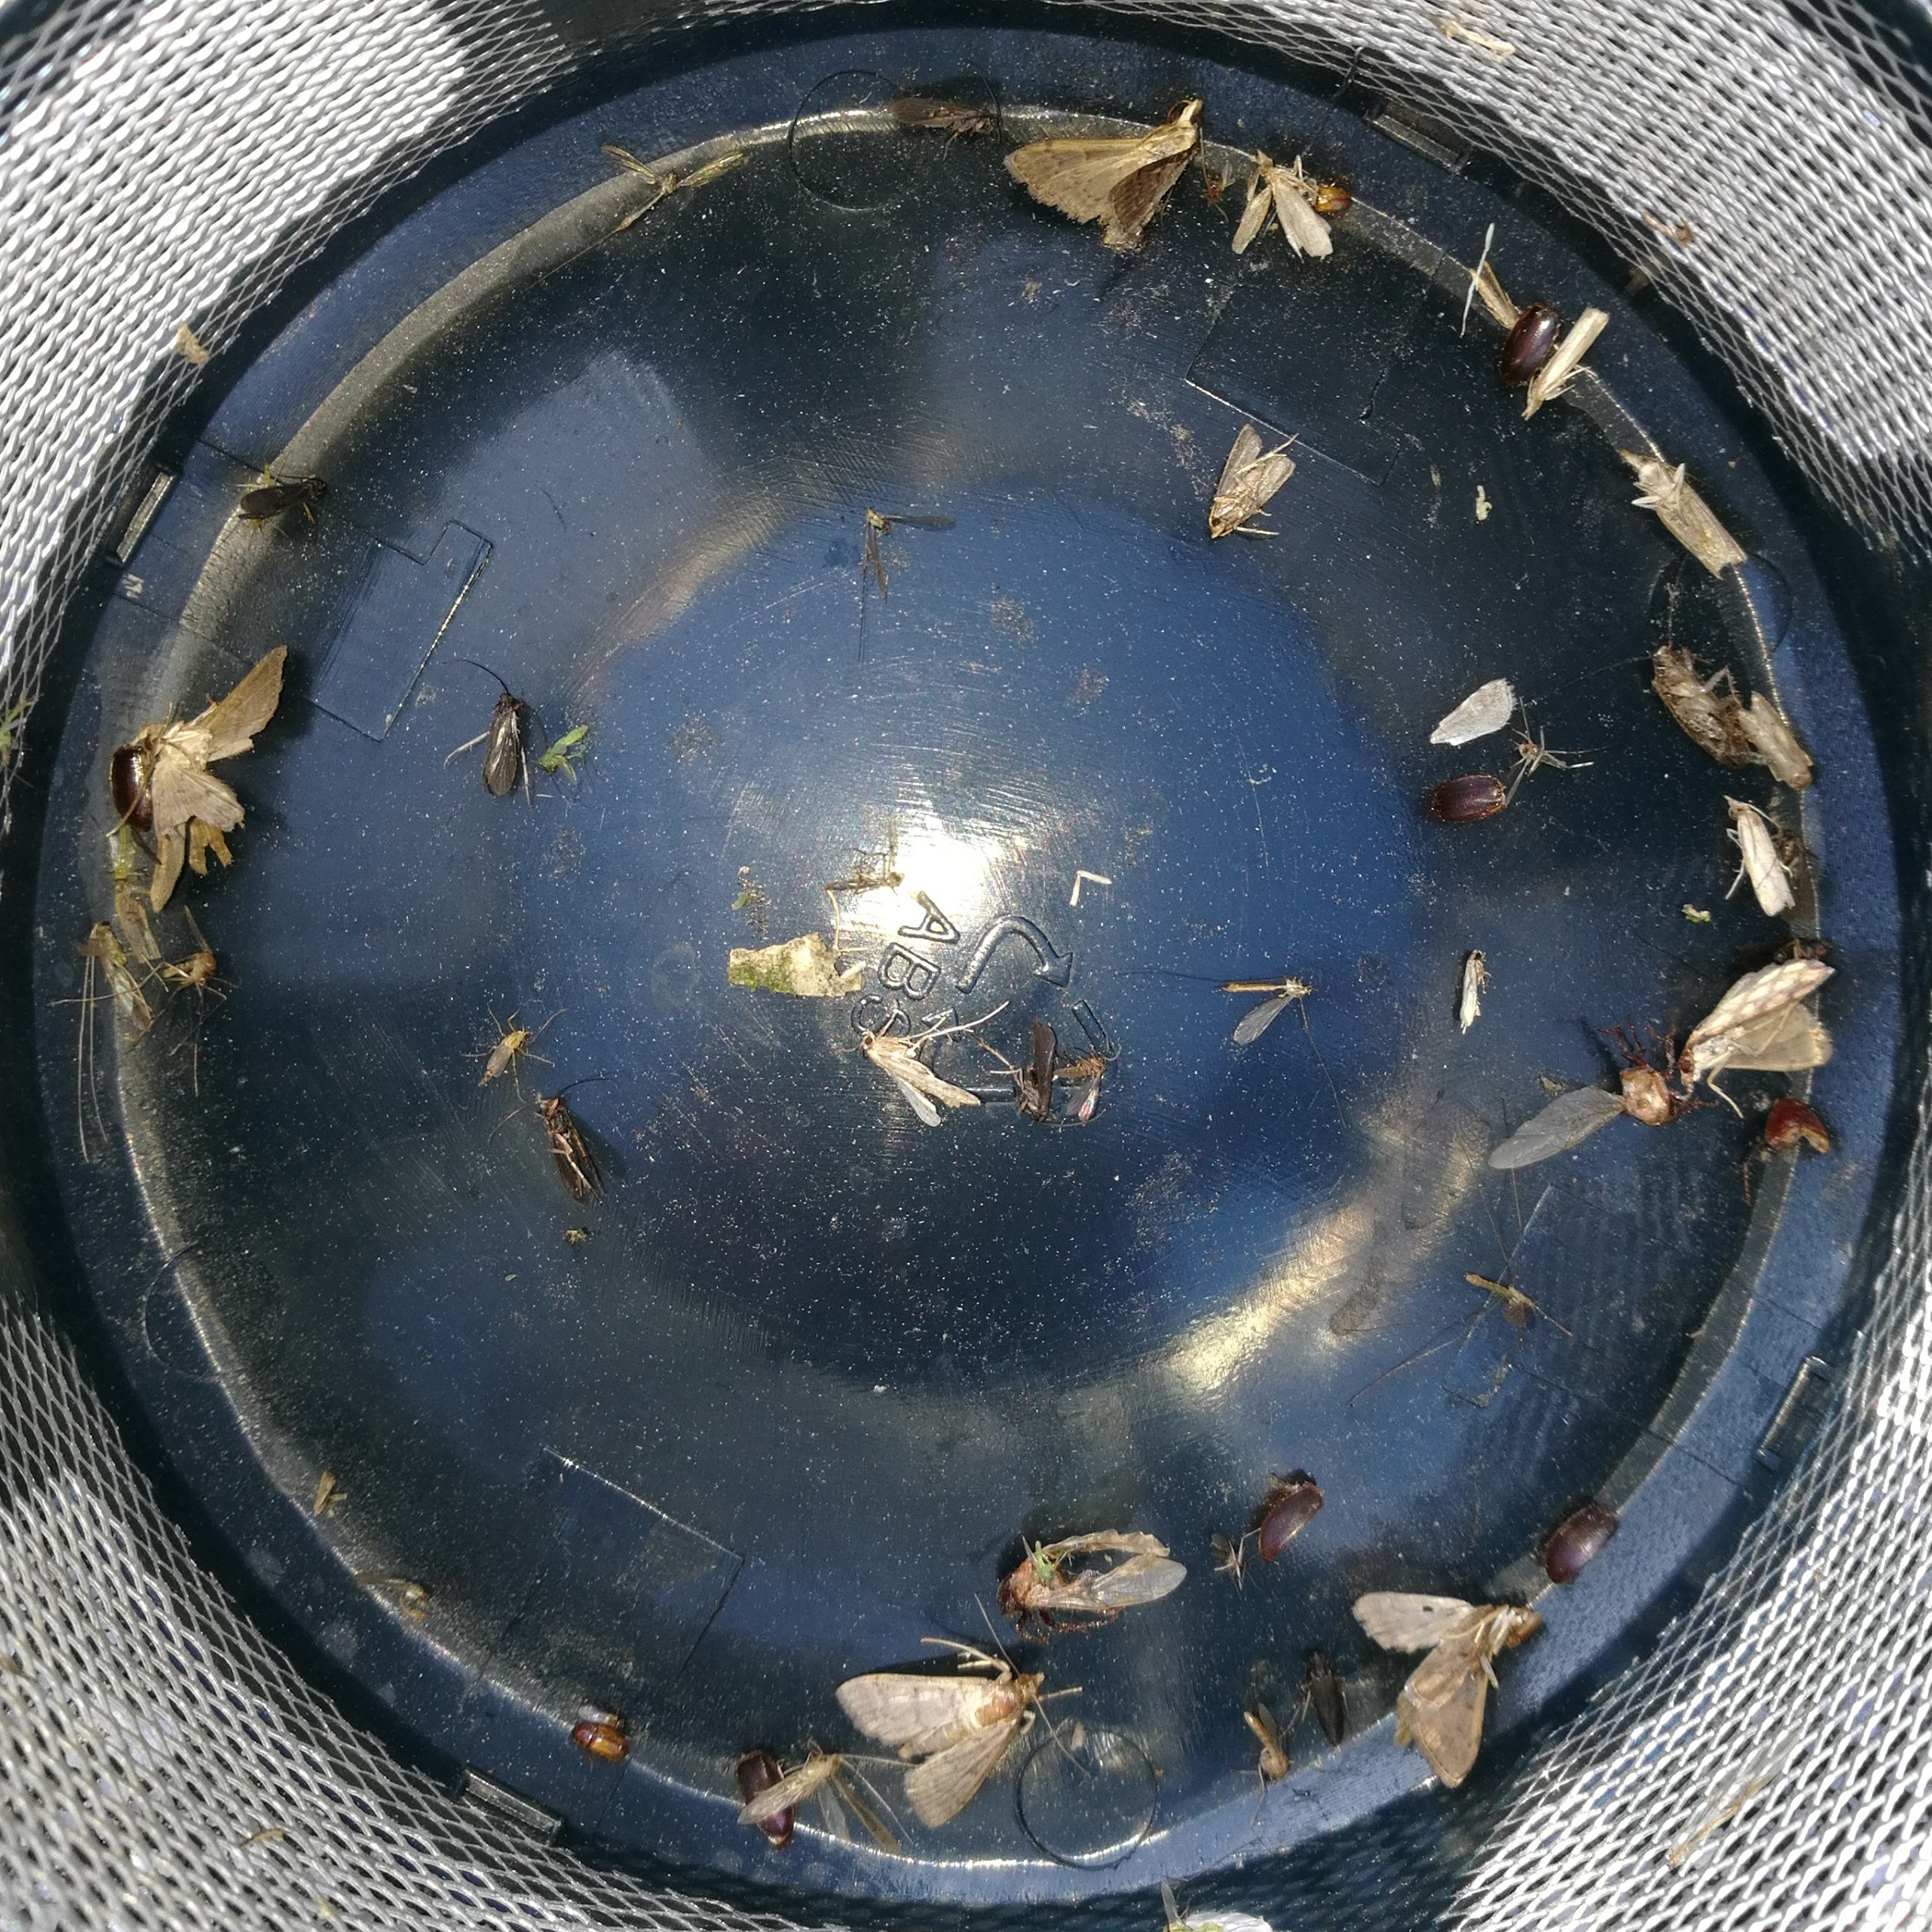beetle: (113, 740, 149, 835)
mosquito: (1617, 448, 1744, 582), (1647, 646, 1744, 770), (1208, 426, 1295, 538), (736, 1752, 840, 1824), (1732, 796, 1789, 915), (1739, 690, 1808, 786), (536, 1093, 596, 1201), (996, 1021, 1051, 1118), (90, 920, 143, 1010), (241, 476, 331, 522), (483, 692, 520, 791), (168, 947, 218, 994)
moth: (1355, 1582, 1539, 1792), (835, 1668, 1042, 1831), (1005, 97, 1203, 244), (1683, 954, 1836, 1085)
